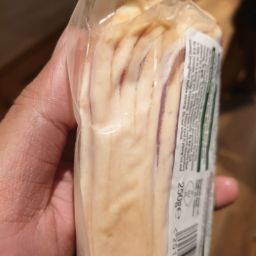Bacon: (47, 2, 178, 256), (78, 51, 161, 256), (29, 6, 232, 45)
